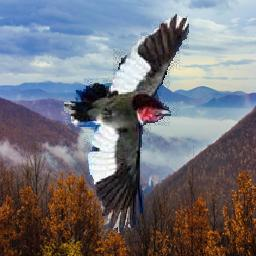Woodpecker: (61, 13, 190, 234)
